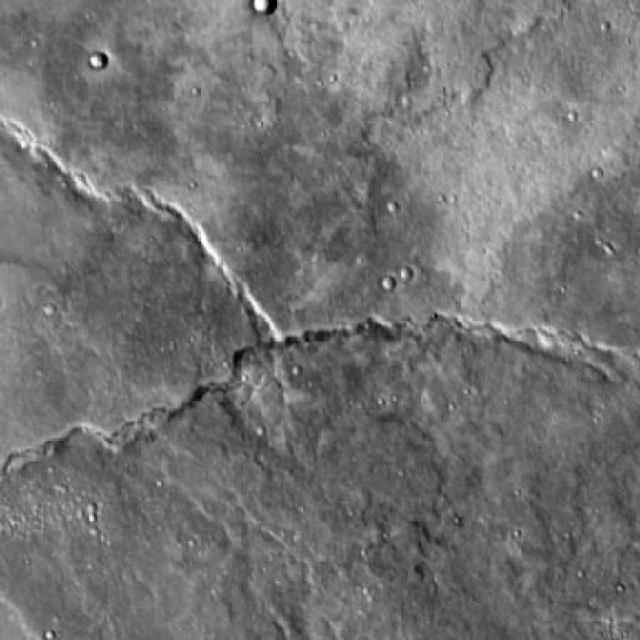crater: (244, 0, 270, 15), (91, 54, 107, 72)
